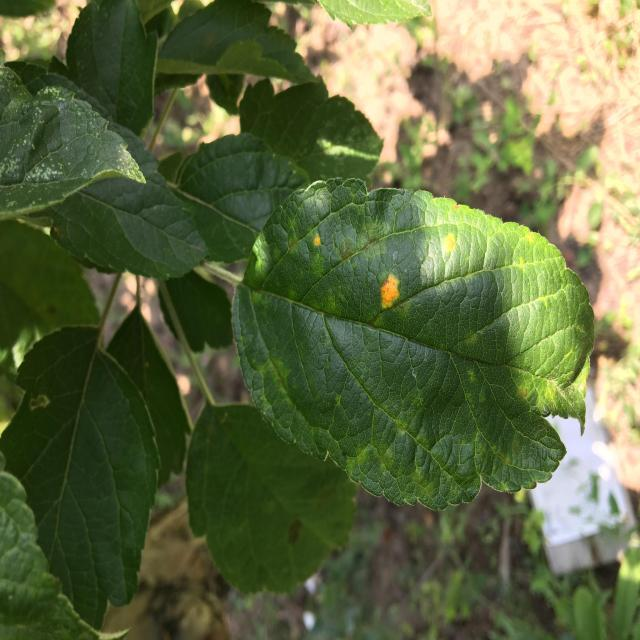Rust: (376, 260, 411, 324), (434, 210, 464, 268), (307, 207, 332, 271)
